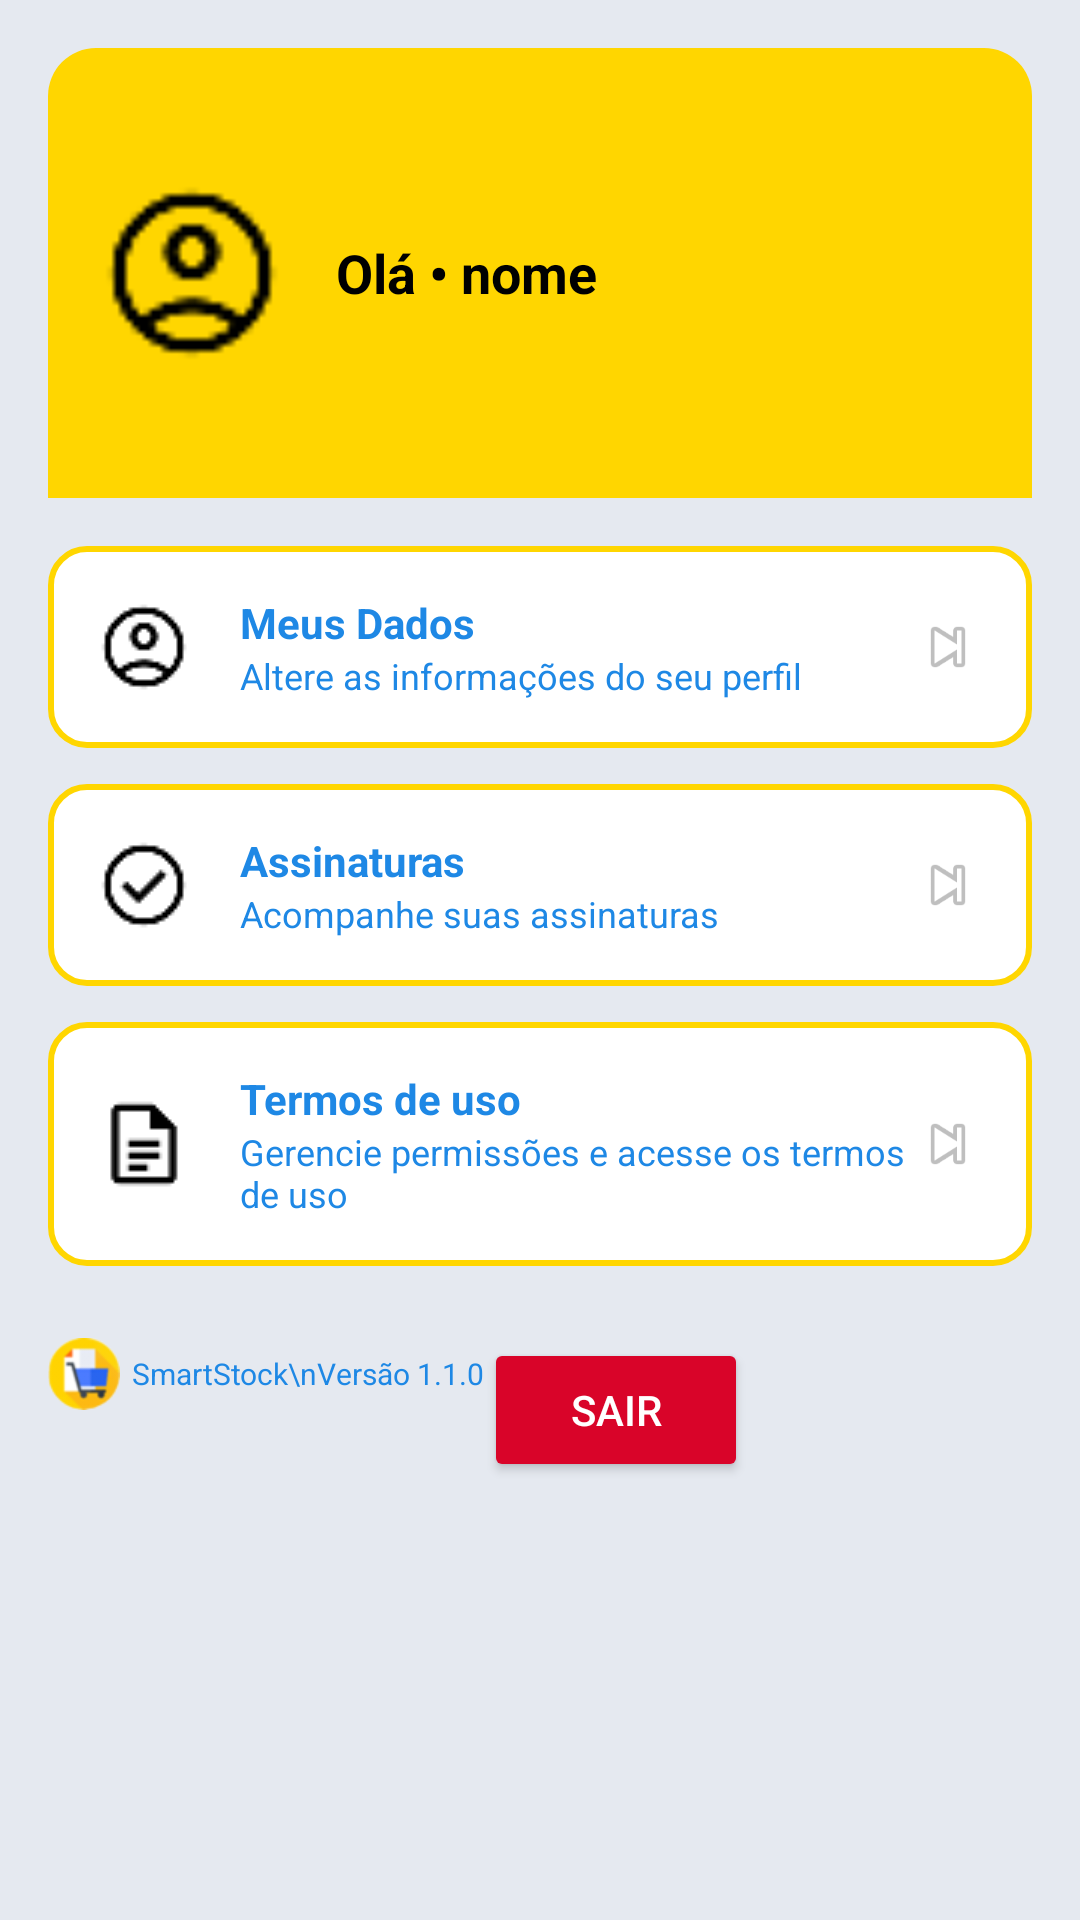

Icons on this 1080*1920 Android screen, each with the point to tap as point (x, y):
check: point (144, 885)
document: point (144, 1144)
next: point (948, 647), point (948, 885), point (948, 1144)
